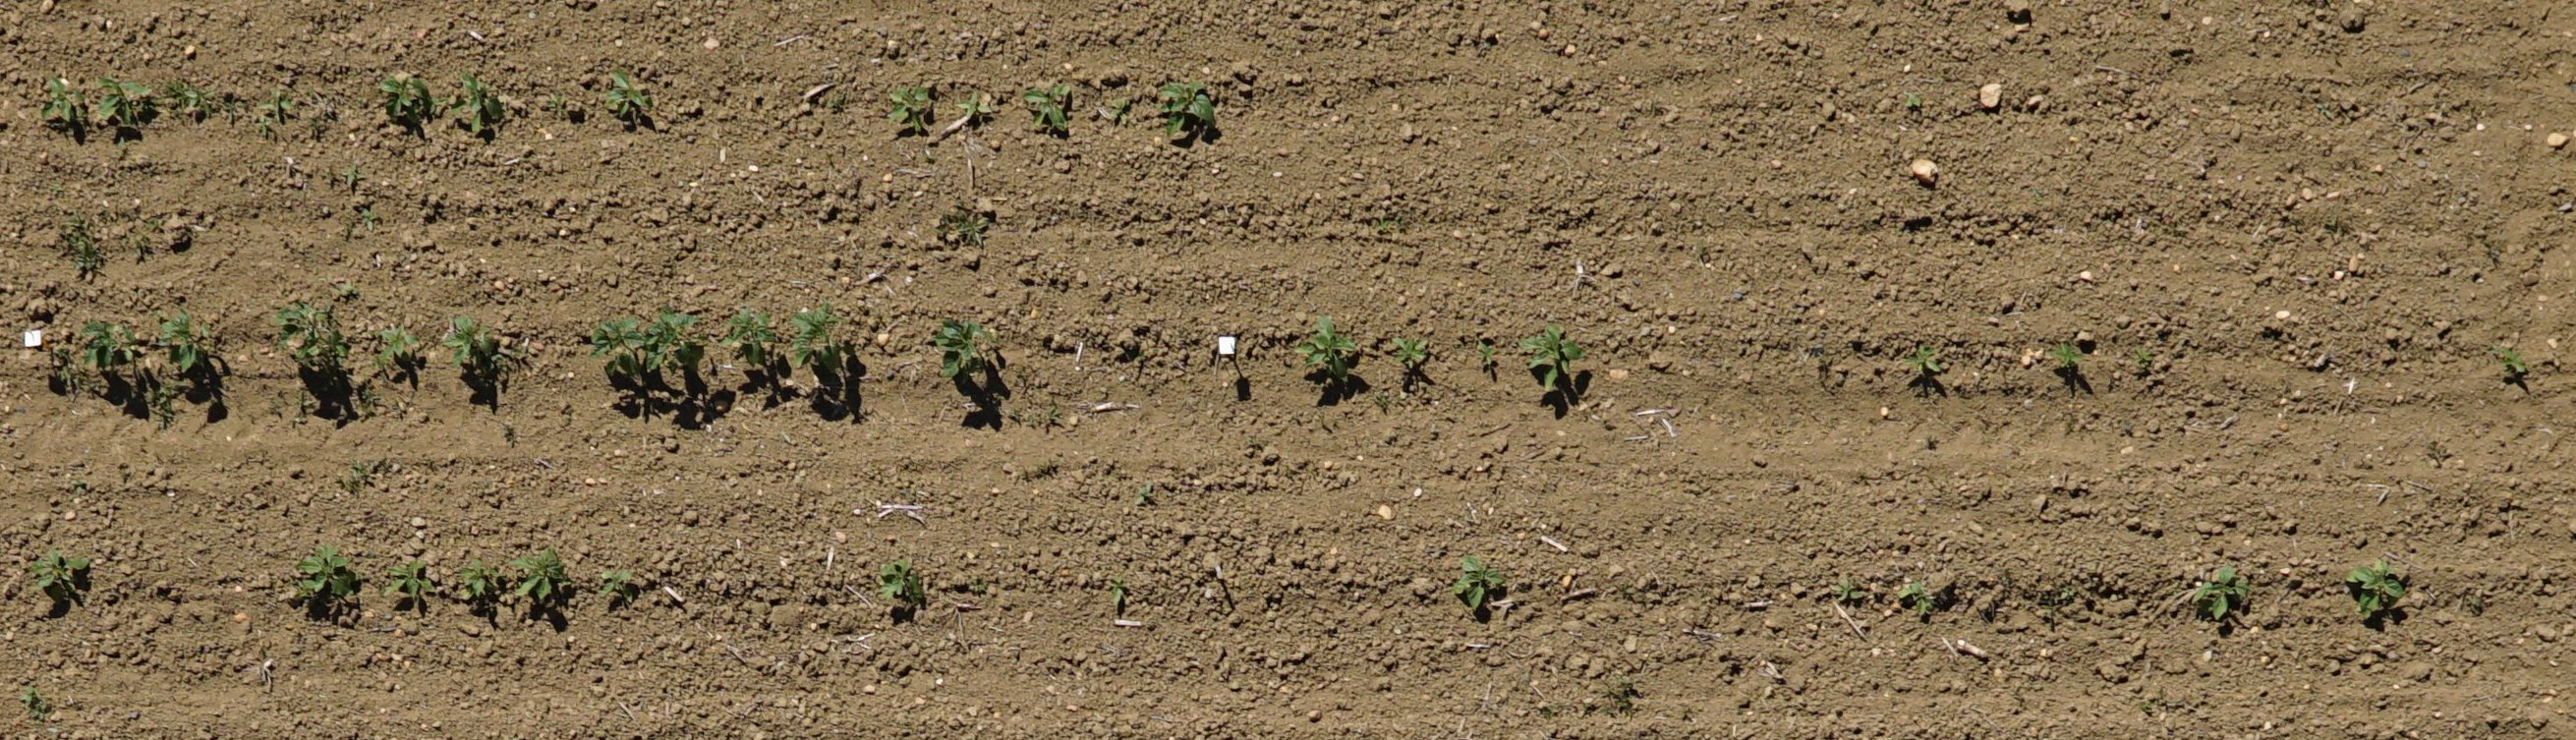spike: (1299, 314, 1360, 386), (1157, 74, 1221, 141), (787, 296, 843, 370), (588, 314, 654, 377), (2349, 553, 2408, 622), (278, 306, 348, 363), (642, 303, 703, 368), (297, 538, 357, 604), (931, 316, 984, 386), (30, 543, 87, 607), (156, 311, 214, 375), (1523, 324, 1580, 386), (513, 543, 570, 605), (2193, 561, 2251, 622), (1452, 551, 1507, 613), (723, 304, 777, 367), (449, 72, 503, 133), (94, 72, 146, 135), (79, 316, 130, 368), (444, 311, 491, 365), (388, 554, 434, 605), (1025, 77, 1069, 130), (887, 81, 931, 133), (606, 67, 649, 122), (879, 556, 922, 608), (38, 72, 77, 123), (1898, 576, 1937, 617), (381, 72, 419, 115), (376, 321, 414, 362), (460, 556, 496, 597), (1904, 342, 1940, 378), (598, 566, 633, 602), (1391, 334, 1424, 365), (261, 89, 292, 118), (956, 92, 987, 120), (2052, 340, 2085, 367), (2499, 345, 2525, 377), (1104, 572, 1129, 605), (184, 90, 217, 115), (1106, 97, 1130, 123), (1832, 580, 1860, 602), (1475, 339, 1497, 365), (2131, 345, 2154, 367), (1137, 482, 1157, 505), (343, 168, 365, 187), (547, 94, 567, 113), (360, 209, 378, 230), (1902, 90, 1922, 109), (2315, 102, 2333, 117), (2062, 587, 2080, 599)
